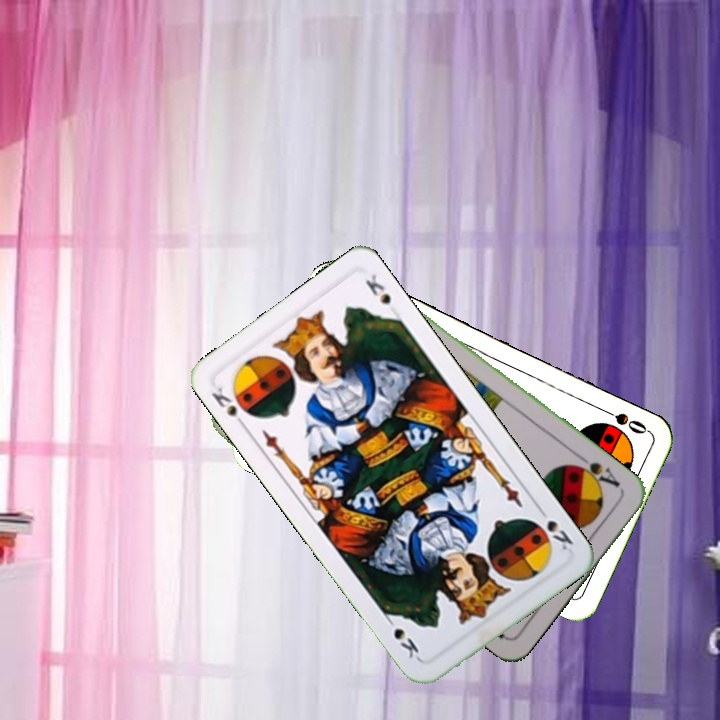SA: (568, 450, 623, 491)
SK: (206, 382, 256, 432), (533, 502, 576, 553)
SO: (595, 403, 650, 437)
